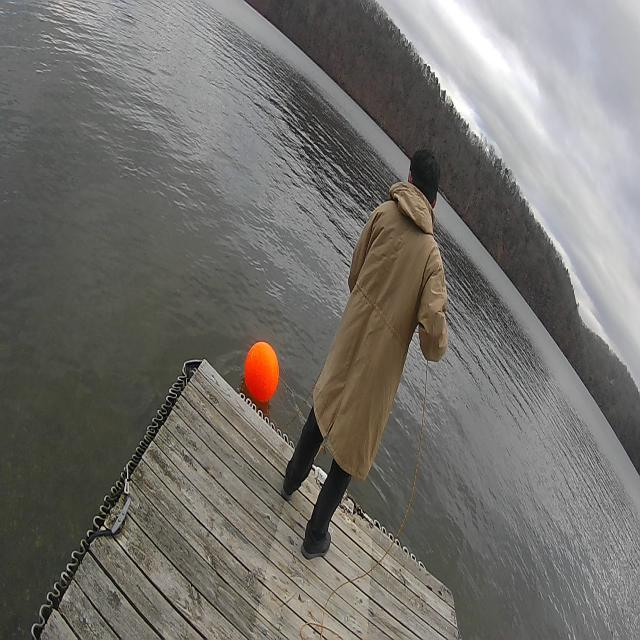Buoy: (243, 334, 282, 419)
